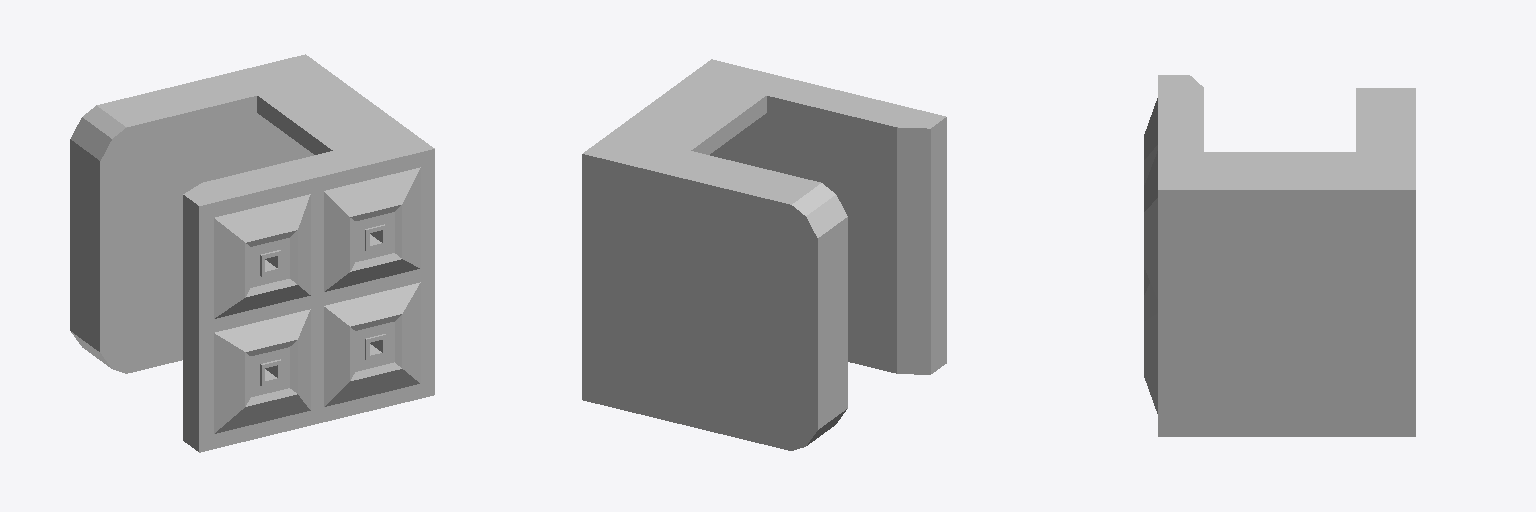
The model's file is blender.obj.
The picture shows the model from 3 angles: view 1: azimuth 30°, elevation 25°; view 2: azimuth 150°, elevation 25°; view 3: azimuth 270°, elevation 25°; orthographic projection.
Visible parts, largest first — view 1: Cube_Cube.001; view 2: Cube_Cube.001; view 3: Cube_Cube.001.
Part boxes in pixels (bbox=[...]): Cube_Cube.001: bbox=[70, 54, 434, 452]; Cube_Cube.001: bbox=[582, 59, 946, 450]; Cube_Cube.001: bbox=[1144, 75, 1415, 436].
Bounding box in the file's own units: 2 × 2 × 2.